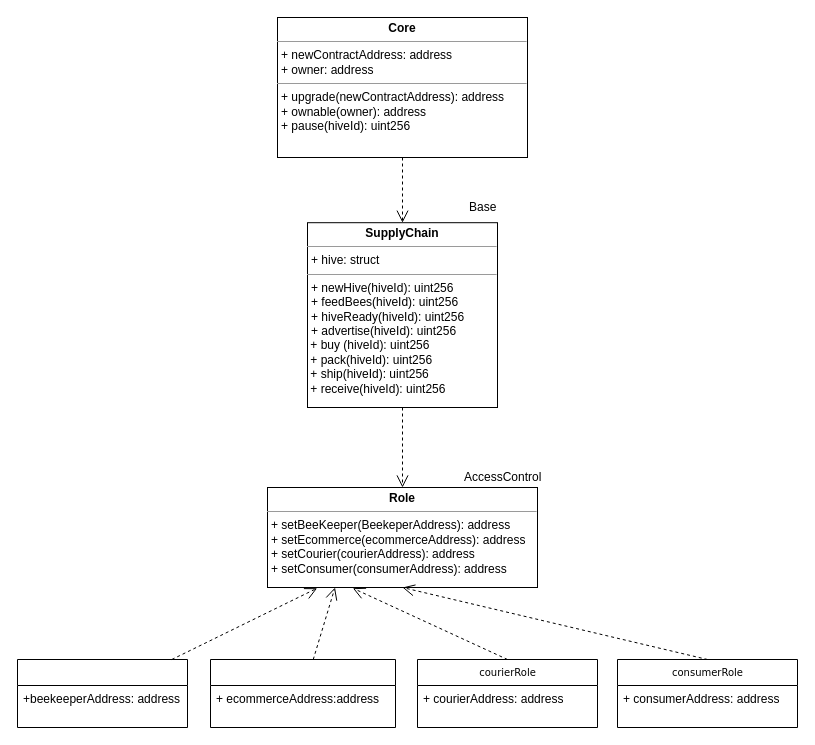
Image size: 815x745. Some labels were removed from this diagram. The shapes that lost their labels are listed below. From the top down, each one's box as (x1, y1, x2, y2) in pixels, then its label:
(16, 658, 188, 728): beekeeperRole
(210, 658, 396, 728): e-commerceRole
